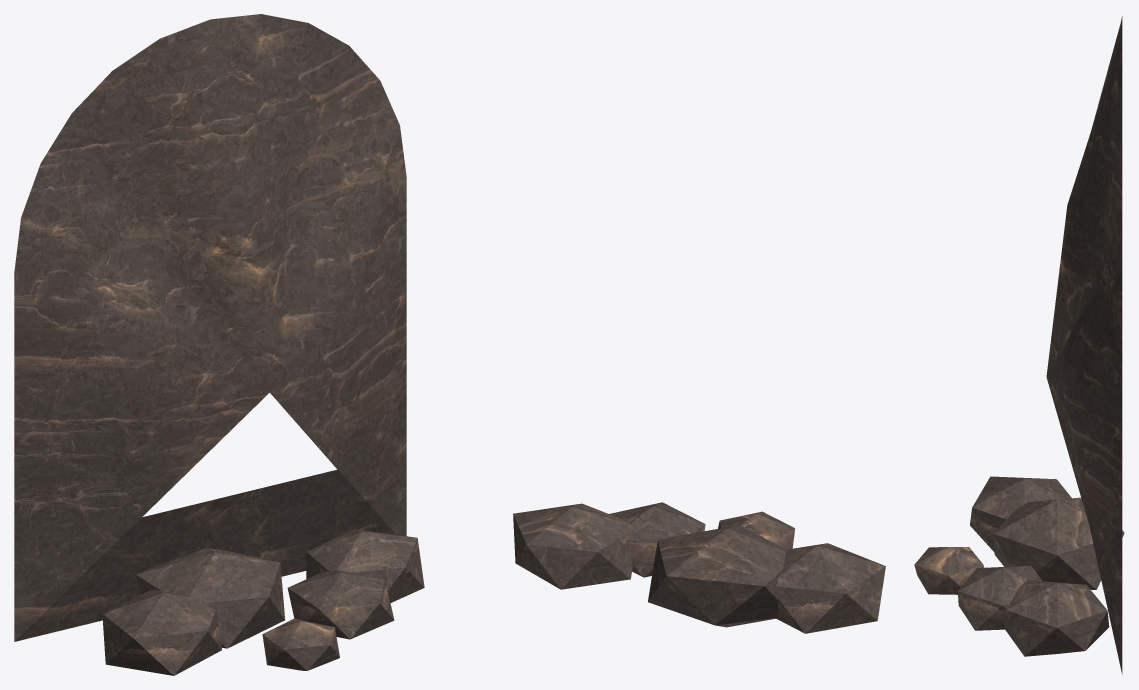
The model's file is cap-hall.603f4847.gltf.
3 views of the same model, side by side, from view 1: azimuth 30°, elevation 25°; view 2: azimuth 150°, elevation 25°; view 3: azimuth 270°, elevation 25° (orthographic). The views are drawn at different scales.
Parts seen in each view (by area): view 1: cap-hall-mesh, cap-hall-rubble-3, cap-hall-rubble-0, cap-hall-rubble-1, cap-hall-rubble-4, cap-hall-rubble-2; view 2: cap-hall-rubble-3, cap-hall-rubble-4, cap-hall-rubble-0, cap-hall-rubble-1, cap-hall-rubble-2; view 3: cap-hall-mesh, cap-hall-rubble-3, cap-hall-rubble-4, cap-hall-rubble-1, cap-hall-rubble-0, cap-hall-rubble-2.
Part boxes in pixels (x1,y1,x2,y2): cap-hall-mesh: (14,14,406,641); cap-hall-rubble-3: (136,547,284,648); cap-hall-rubble-0: (102,590,221,675); cap-hall-rubble-1: (287,569,394,639); cap-hall-rubble-4: (306,529,424,602); cap-hall-rubble-2: (262,618,339,670); cap-hall-rubble-3: (648,525,786,627); cap-hall-rubble-4: (513,503,632,589); cap-hall-rubble-0: (775,543,885,633); cap-hall-rubble-1: (609,502,705,577); cap-hall-rubble-2: (718,511,795,549); cap-hall-mesh: (1046,16,1122,674); cap-hall-rubble-3: (993,497,1124,589); cap-hall-rubble-4: (1004,580,1109,656); cap-hall-rubble-1: (957,565,1042,630); cap-hall-rubble-0: (970,476,1071,551); cap-hall-rubble-2: (914,547,983,594).
Size of the model in its own units: 2 by 2.89 by 0.9696.
1 material, 1 textured.
